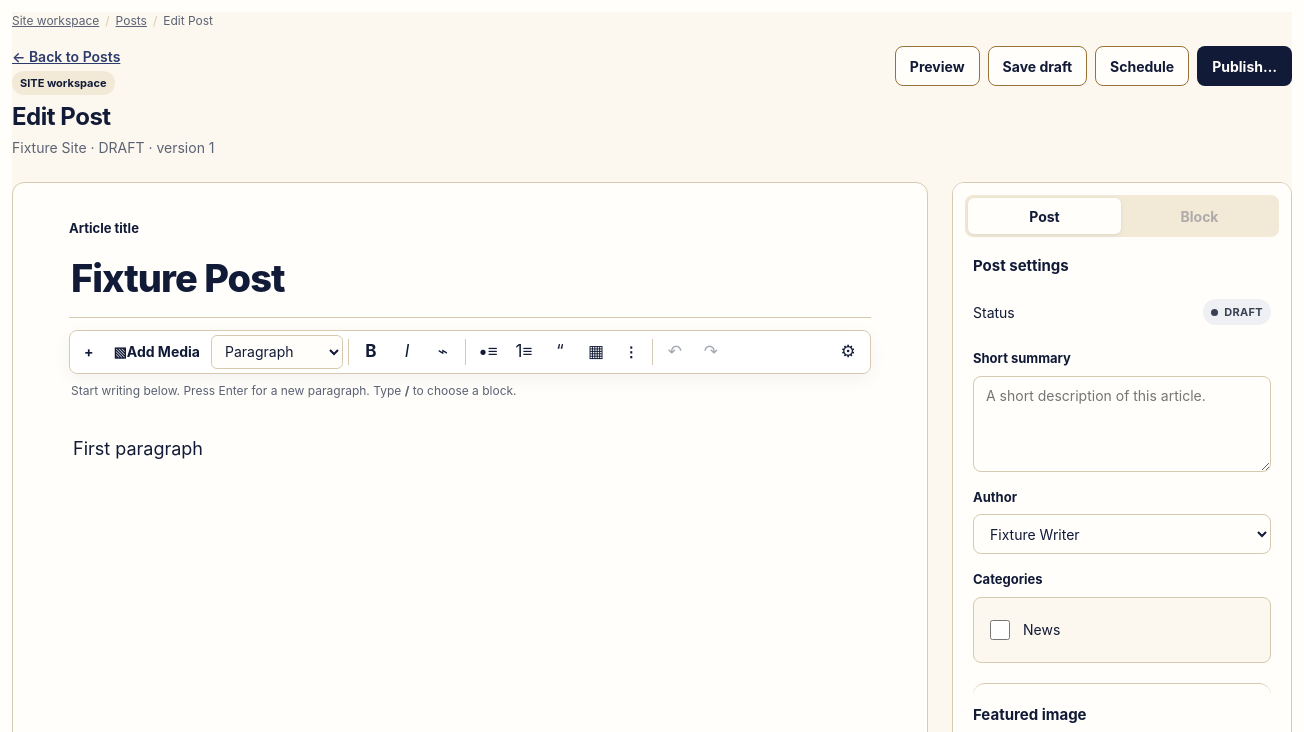
Test case: stale autosave responses never mark newer edits Saved, and Retry recovers a real failure
Expected: the element named "Editor toolbar" is shown, [69,330,871,374]
Type "Edit A" into the text box labelled "Short summary".
click(1122, 424); type("Edit A")  # box [973,376,1271,472]
Wait 4100 ms
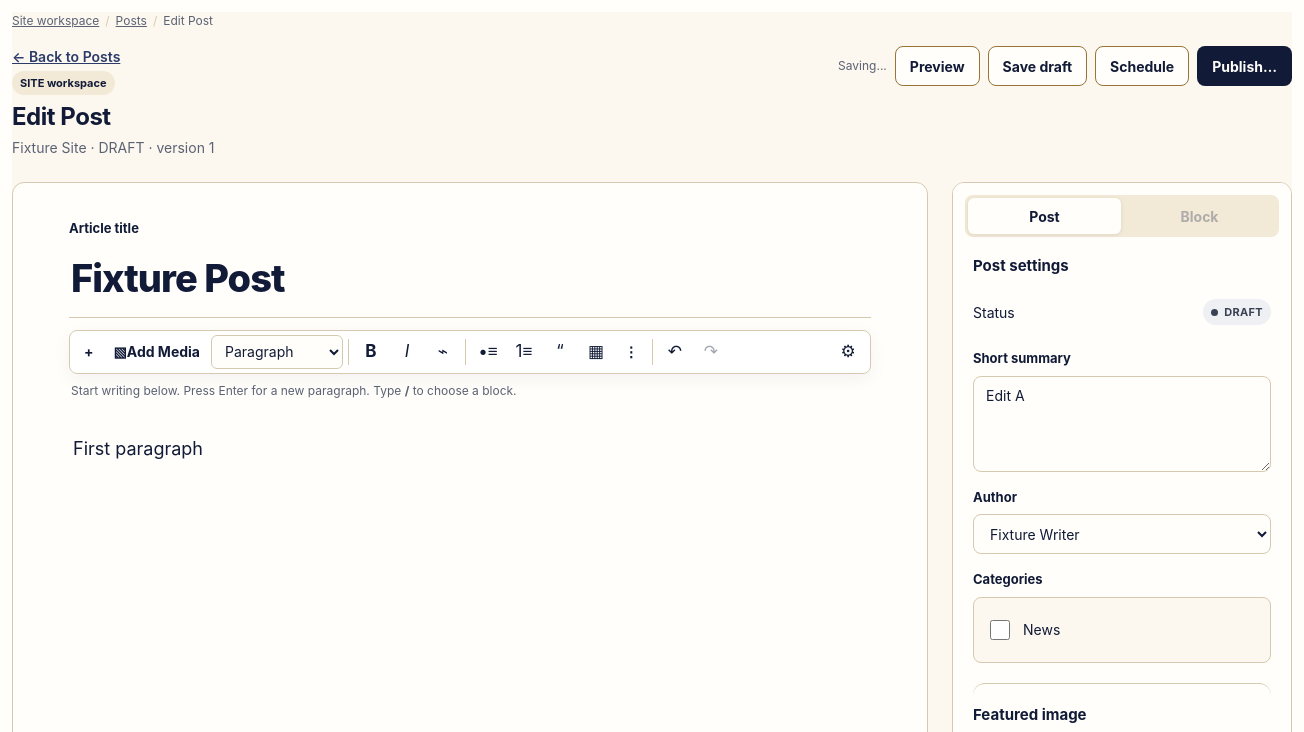
Replace the text in the text box labelled "Short summary" with "Edit B" at (1122, 424), box [973,376,1271,472]
Wait 4100 ms
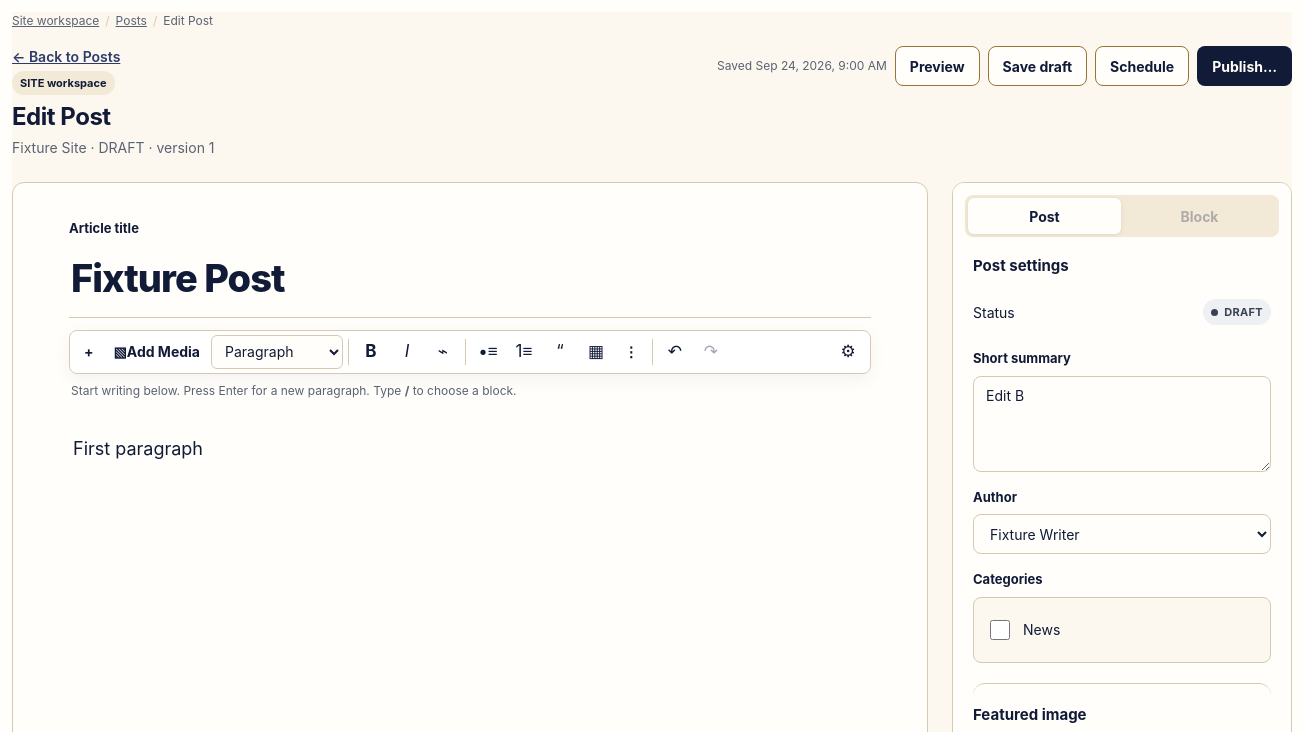
Expected: the text "Saved Sep 24, 2026, 9:00 AM" is shown, [717,58,887,73]
Replace the text in the text box labelled "Short summary" with "Edit C" at (1122, 424), box [973,376,1271,472]
Wait 4100 ms
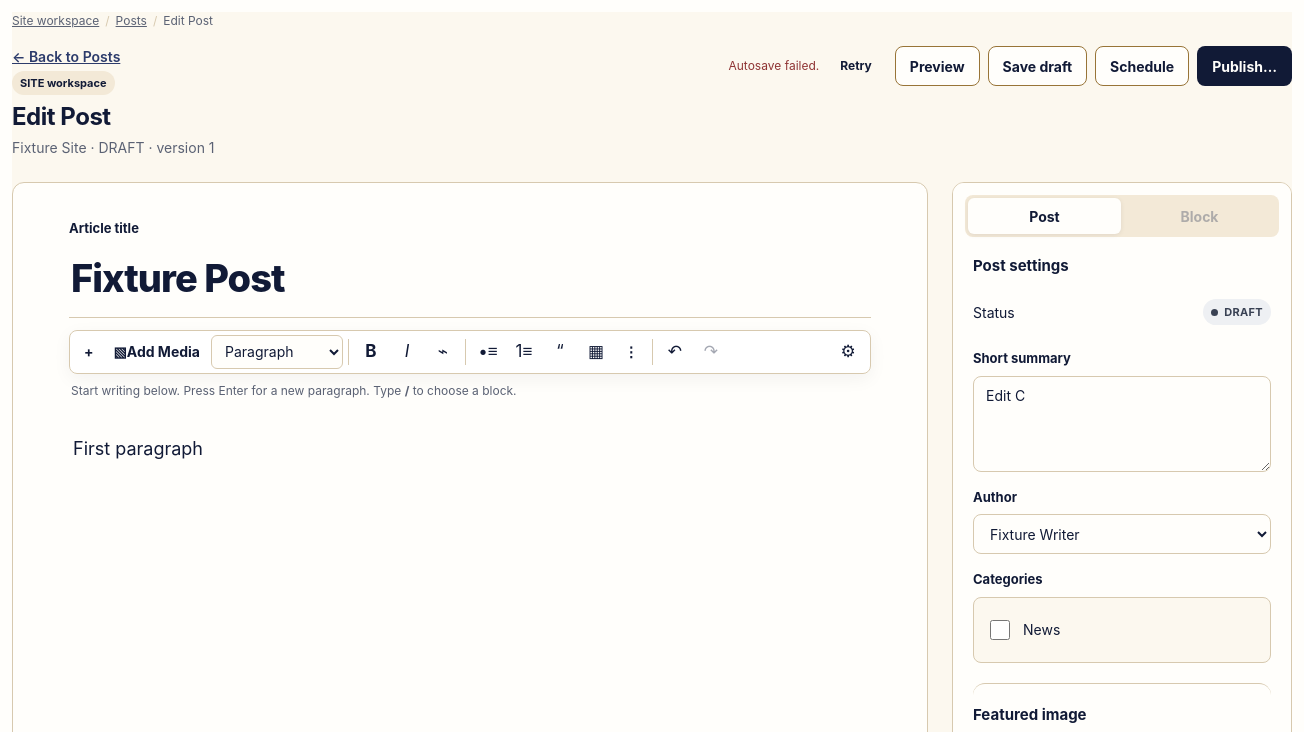
Expected: the text "Autosave failed." is shown, [728,57,819,75]
Click the button "Retry".
click(856, 66)  # box [825,46,887,86]
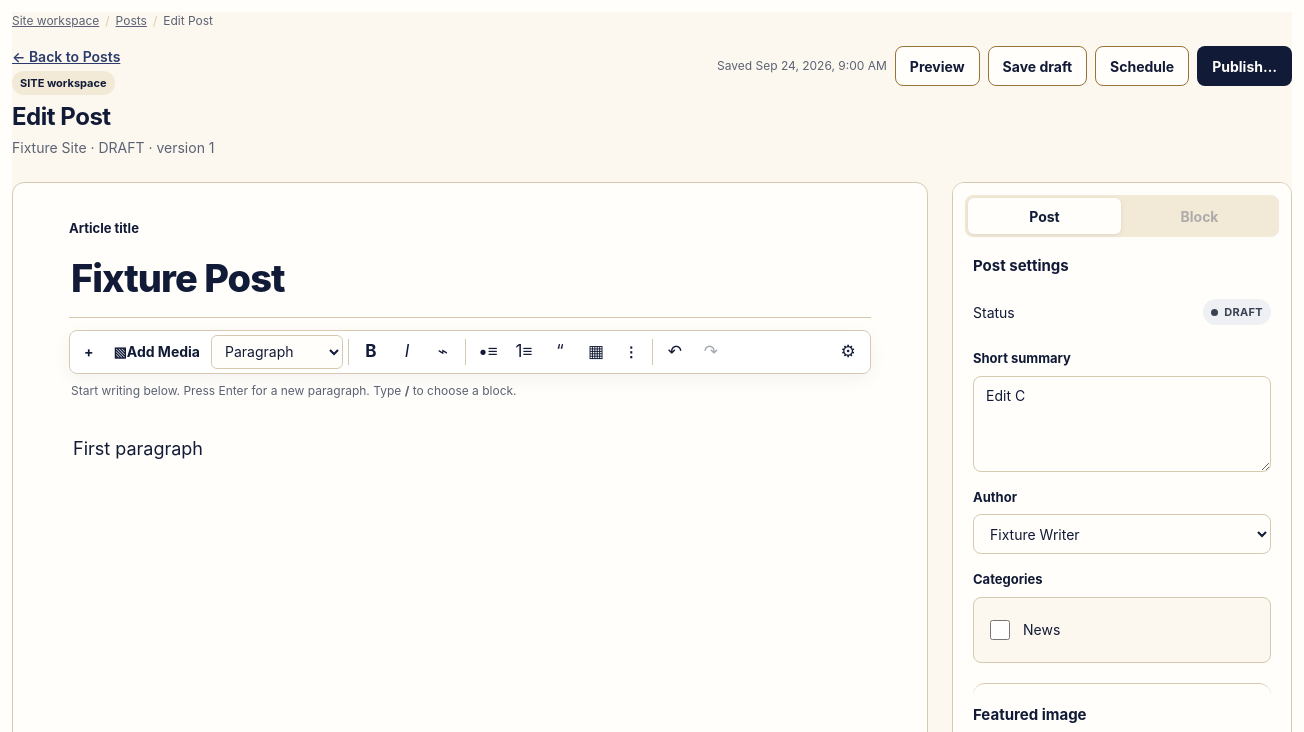
Expected: the text "Saved Sep 24, 2026, 9:00 AM" is shown, [717,58,887,73]
